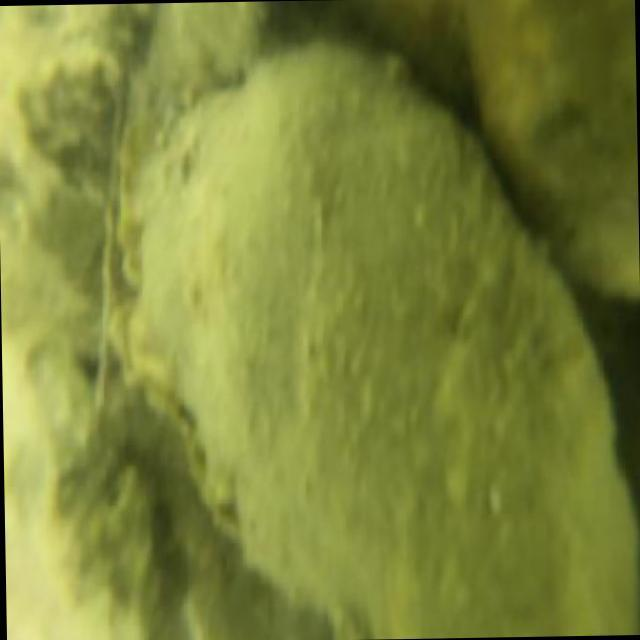Oyster- Indeterminate: (107, 33, 640, 639)
